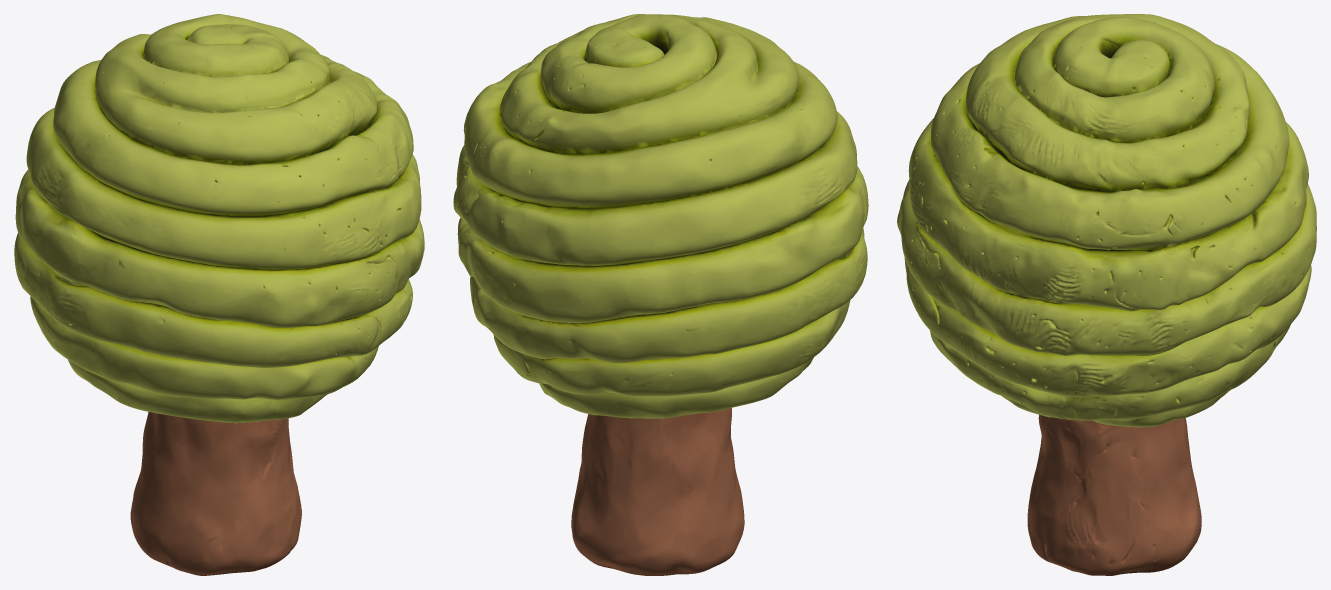
File: tree.glb
3 views of the same model, side by side, from view 1: azimuth 30°, elevation 25°; view 2: azimuth 150°, elevation 25°; view 3: azimuth 270°, elevation 25° (orthographic).
Parts seen in each view (by area): view 1: tripo_node_2ba575cd-b365-41c7-be53-74b8bdac8222; view 2: tripo_node_2ba575cd-b365-41c7-be53-74b8bdac8222; view 3: tripo_node_2ba575cd-b365-41c7-be53-74b8bdac8222.
Boxes of the visible parts, bbox=[...] form: tripo_node_2ba575cd-b365-41c7-be53-74b8bdac8222: bbox=[14, 14, 424, 575]; tripo_node_2ba575cd-b365-41c7-be53-74b8bdac8222: bbox=[453, 14, 868, 575]; tripo_node_2ba575cd-b365-41c7-be53-74b8bdac8222: bbox=[897, 14, 1316, 575].
Bounding box in the file's own units: 0.7412 × 0.9999 × 0.7363.
Materials: 1 (1 with a texture image).
